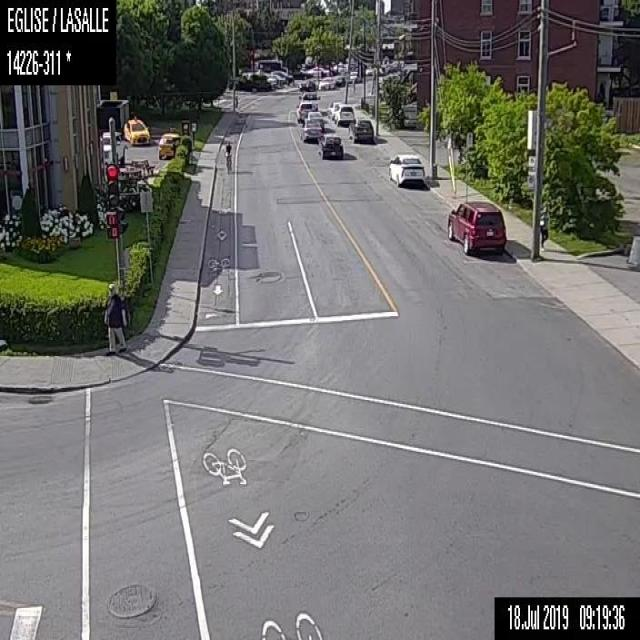cyclist: (224, 137, 232, 172)
pedestrian: (103, 283, 126, 356), (537, 200, 551, 247)
vehicle: (446, 197, 506, 255), (386, 151, 426, 185), (346, 115, 374, 143), (122, 117, 149, 145), (317, 131, 342, 159), (298, 116, 324, 142), (157, 129, 179, 157), (332, 102, 355, 124), (295, 100, 318, 120), (259, 59, 288, 74), (318, 76, 334, 91), (298, 78, 318, 90), (307, 65, 328, 76), (298, 91, 320, 101), (334, 75, 344, 86)
